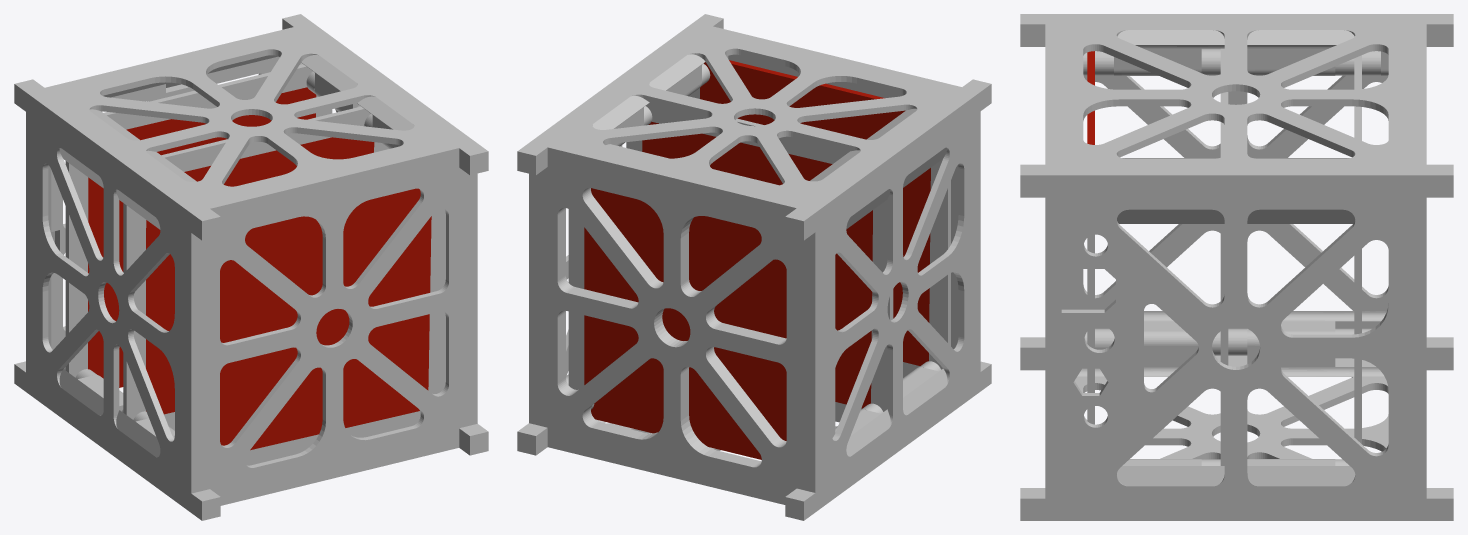
File: cubesat.dae
3 views of the same model, side by side, from view 1: azimuth 30°, elevation 25°; view 2: azimuth 150°, elevation 25°; view 3: azimuth 270°, elevation 25° (orthographic). The views are drawn at different scales.
Visible parts, largest first — view 1: CubesatSTL; view 2: CubesatSTL; view 3: CubesatSTL.
Boxes of the visible parts, x1,y1,x2,y2 form: CubesatSTL: (14,14,488,520); CubesatSTL: (517,14,991,520); CubesatSTL: (1020,14,1453,520).
Size of the model in its own units: 1 by 1.14 by 1.
